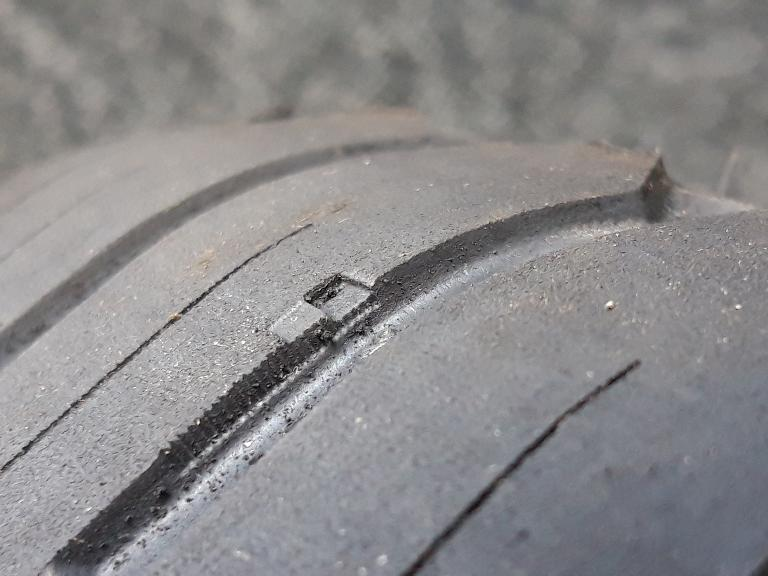temoin:25: (255, 266, 390, 367)
